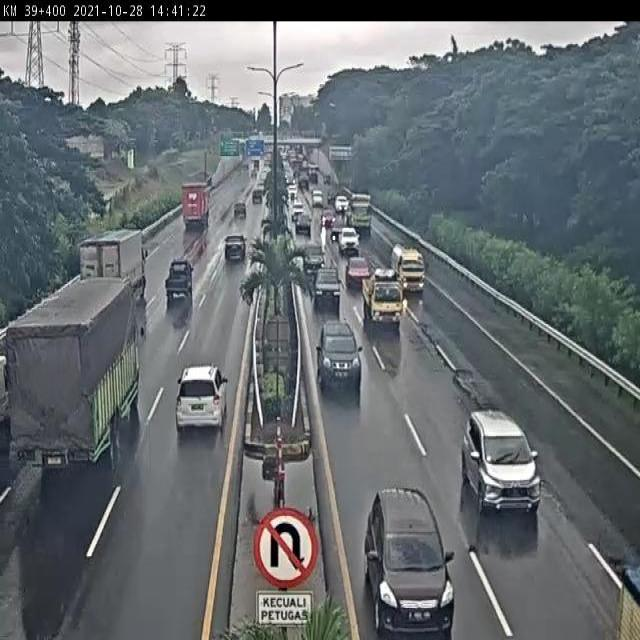car: (362, 487, 456, 637), (461, 409, 543, 516), (173, 364, 227, 431), (314, 313, 358, 380), (308, 268, 342, 311), (164, 258, 194, 302), (345, 256, 371, 287), (301, 242, 325, 274), (223, 233, 247, 263)
mid truck: (5, 276, 147, 467), (78, 228, 148, 304)
truck-m-: (362, 269, 403, 332), (390, 241, 426, 292)
